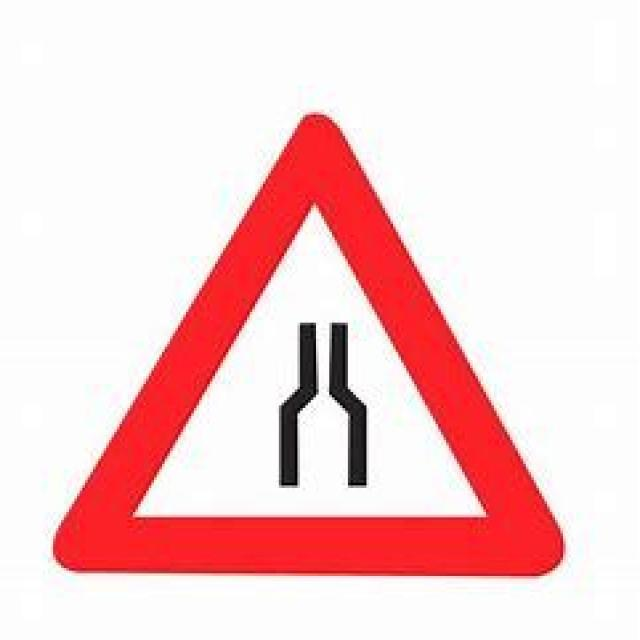narrow road ahead: (53, 113, 565, 580)
